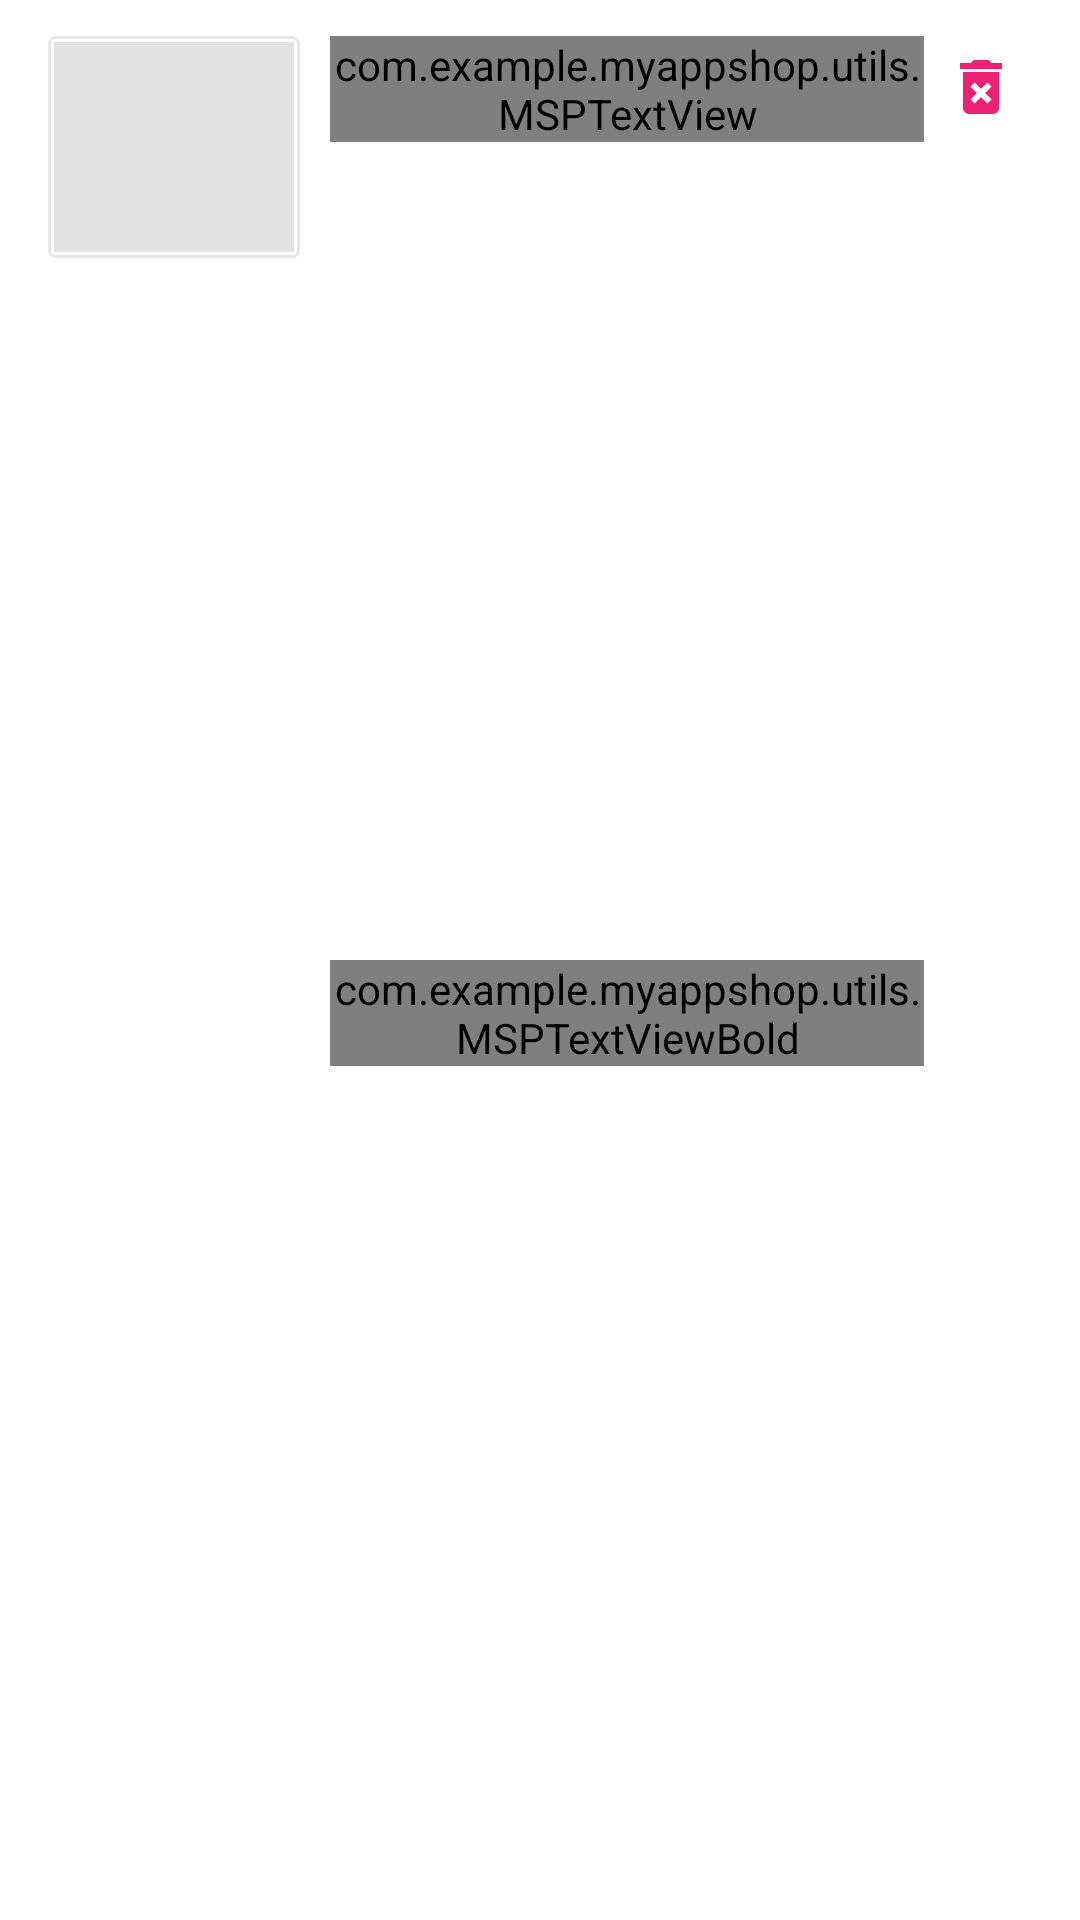

Icon click points for this 1080w x 1920h phone screenshot, format (x,y):
delete forever: (981,87)
